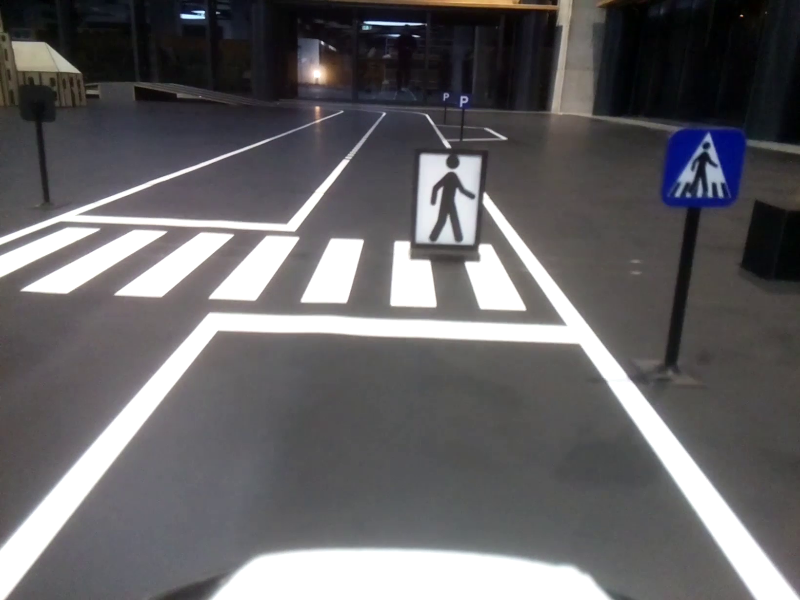pedestrians: (663, 129, 741, 211)
